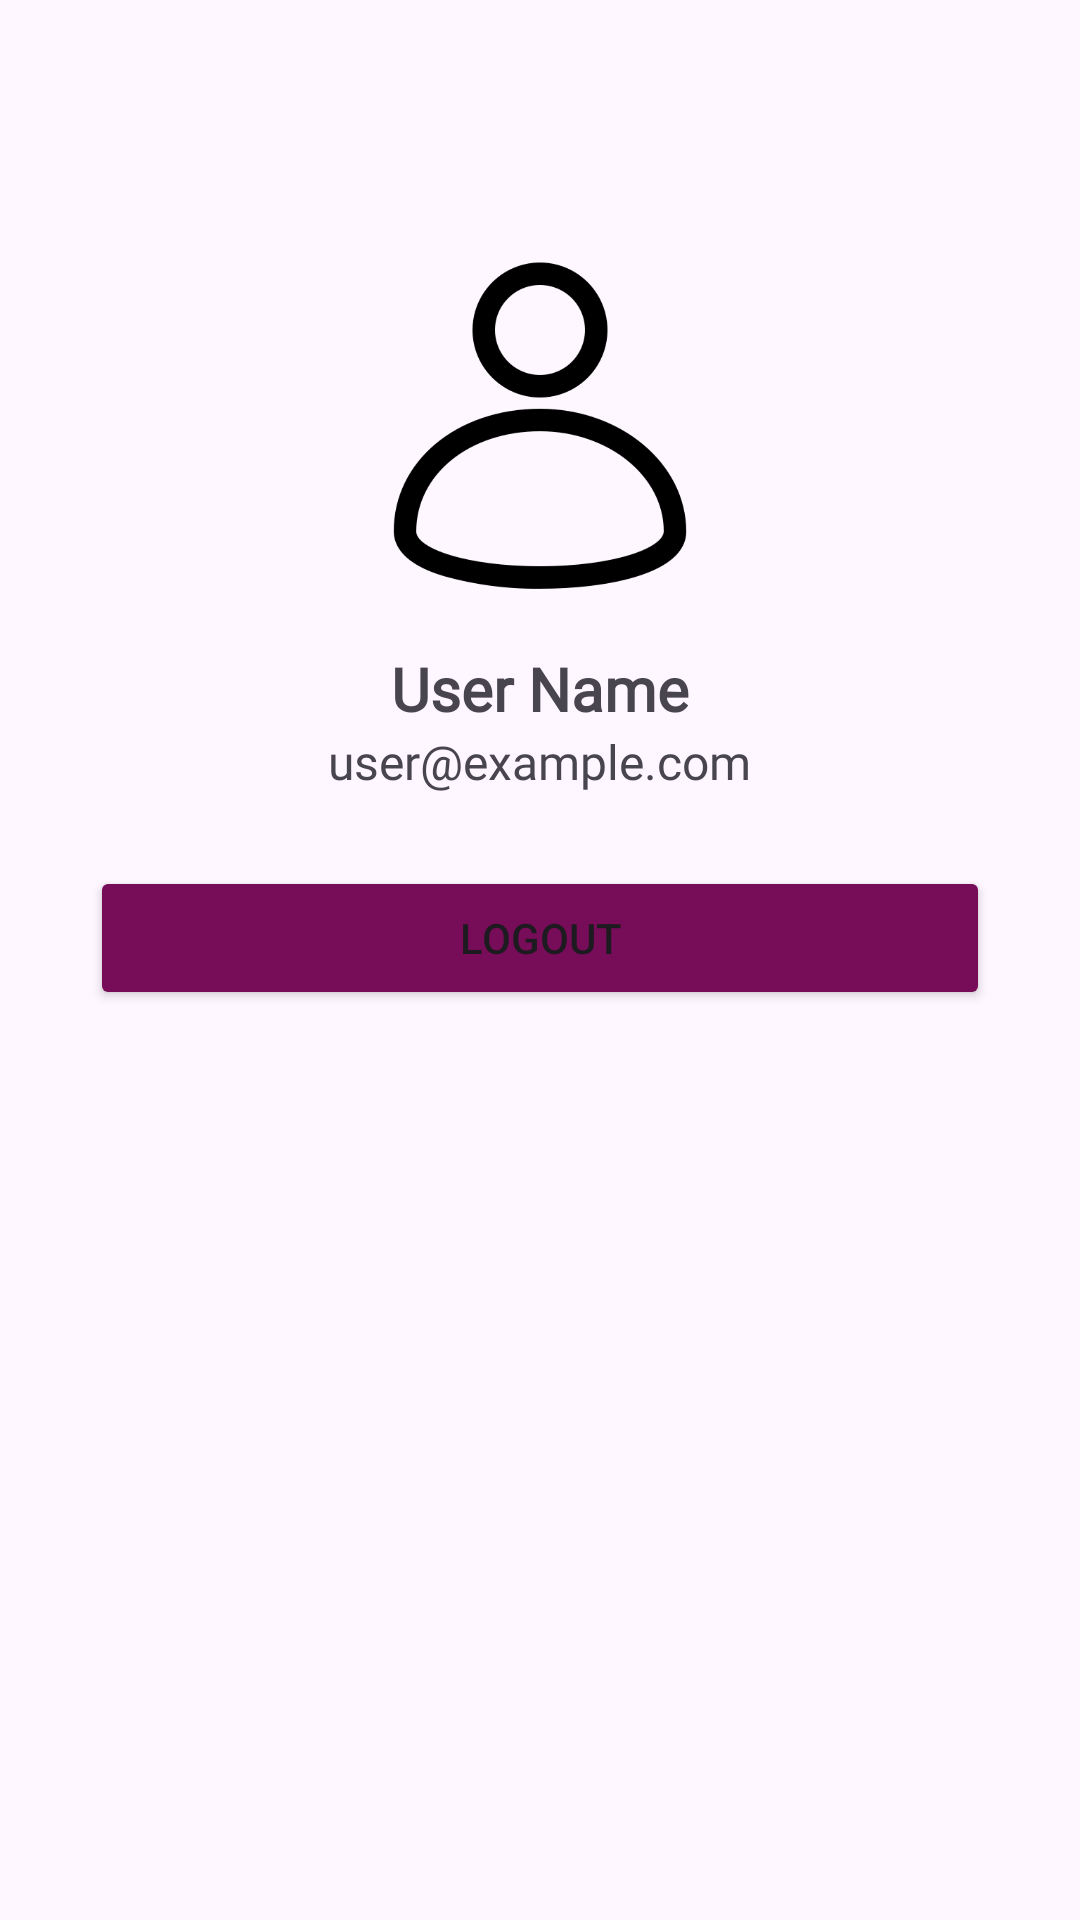

Where to tap for icons on this 1080 x 1920 app screen, as point (x, y):
profile: point (540, 425)
